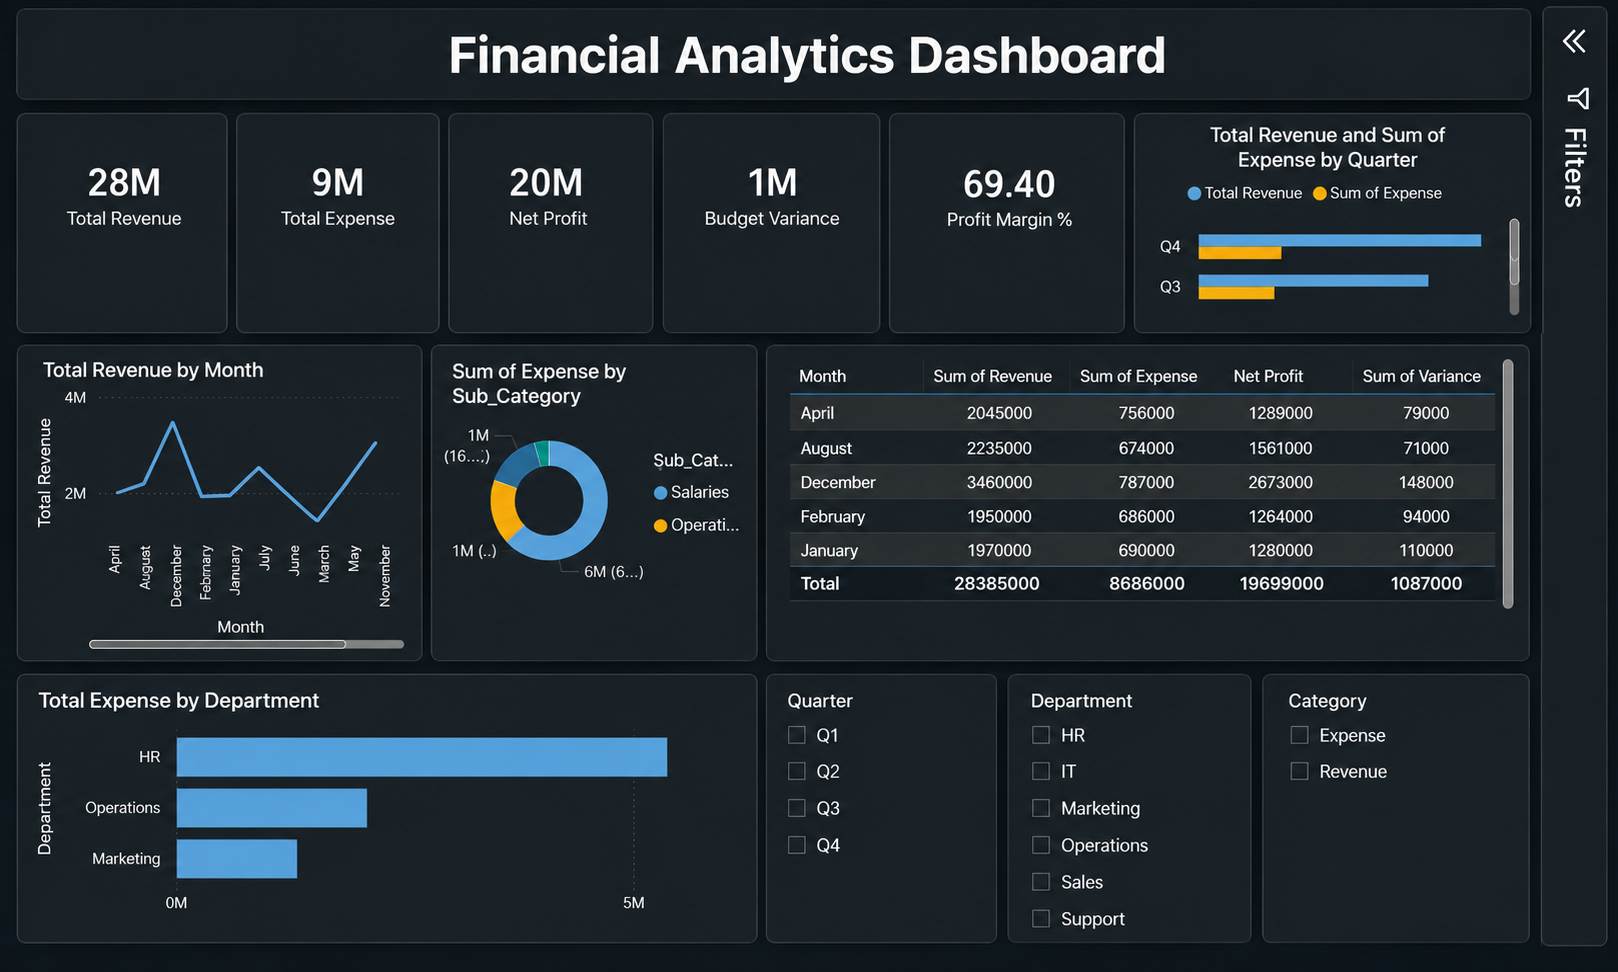

The page's visual inventory and layout, read from the dashboard file:
{"tool":"powerbi","page":{"name":"Page 1","canvas":[1280,720],"ordinal":0},"visuals":[{"type":"cardVisual","fields":{"Data":["financial_data.Total Revenue"]},"box":[10,0,280,280],"z":0},{"type":"cardVisual","fields":{"Data":["financial_data.Total Expense"]},"box":[207.9,0,279.7,281.6],"z":1000},{"type":"cardVisual","fields":{"Data":["financial_data.Net Profit"]},"box":[347.7,0,279.7,281.6],"z":2000},{"type":"cardVisual","fields":{"Data":["financial_data.Profit Margin %"]},"box":[748.4,0,279.7,281.6],"z":3000},{"type":"cardVisual","fields":{"Data":["financial_data.Budget Variance"]},"box":[468.7,0,279.7,149.3],"z":4000},{"type":"lineChart","fields":{"Category":["financial_data.Month"],"Y":["financial_data.Total Revenue"]},"box":[10,290,280,280],"z":5000},{"type":"clusteredBarChart","fields":{"Y":["financial_data.Total Revenue","Sum(financial_data.Expense)"],"Category":["financial_data.Quarter"]},"box":[999.7,64.3,279.7,149.3],"z":6000},{"type":"donutChart","fields":{"Category":["financial_data.Sub_Category"],"Y":["Sum(financial_data.Expense)"]},"box":[306.1,257,279.7,149.3],"z":7000},{"type":"clusteredBarChart","fields":{"Category":["financial_data.Department"],"Y":["financial_data.Total Expense"]},"box":[469,406,280,164],"z":8000},{"type":"tableEx","fields":{"Values":["financial_data.Month","Sum(financial_data.Revenue)","Sum(financial_data.Expense)","financial_data.Net Profit","Sum(financial_data.Variance)"]},"box":[686,257,493.2,149.3],"z":9000},{"type":"slicer","fields":{"Values":["financial_data.Quarter"]},"box":[733.2,430.9,279.7,149.3],"z":10000},{"type":"slicer","fields":{"Values":["financial_data.Department"]},"box":[846.2,445.4,279.9,230.6],"z":11000},{"type":"slicer","fields":{"Values":["financial_data.Category"]},"box":[1127,446,153,150],"z":12000}]}

Visuals, with their boxes on the page's 1280x720 design canvas (x1, y1, x2, y2). These are canvas units, not pixel positions in the 1618x972 screenshot, which may show the page scaled, cropped or inside an application window:
cardVisual - financial_data.Total Revenue: 10:0:290:280
cardVisual - financial_data.Total Expense: 208:0:488:282
cardVisual - financial_data.Net Profit: 348:0:627:282
cardVisual - financial_data.Profit Margin %: 748:0:1028:282
cardVisual - financial_data.Budget Variance: 469:0:748:149
lineChart - financial_data.Month x financial_data.Total Revenue: 10:290:290:570
clusteredBarChart - financial_data.Total Revenue x Sum(financial_data.Expense): 1000:64:1279:214
donutChart - financial_data.Sub_Category x Sum(financial_data.Expense): 306:257:586:406
clusteredBarChart - financial_data.Department x financial_data.Total Expense: 469:406:749:570
tableEx - financial_data.Month x Sum(financial_data.Revenue): 686:257:1179:406
slicer - financial_data.Quarter: 733:431:1013:580
slicer - financial_data.Department: 846:445:1126:676
slicer - financial_data.Category: 1127:446:1280:596
